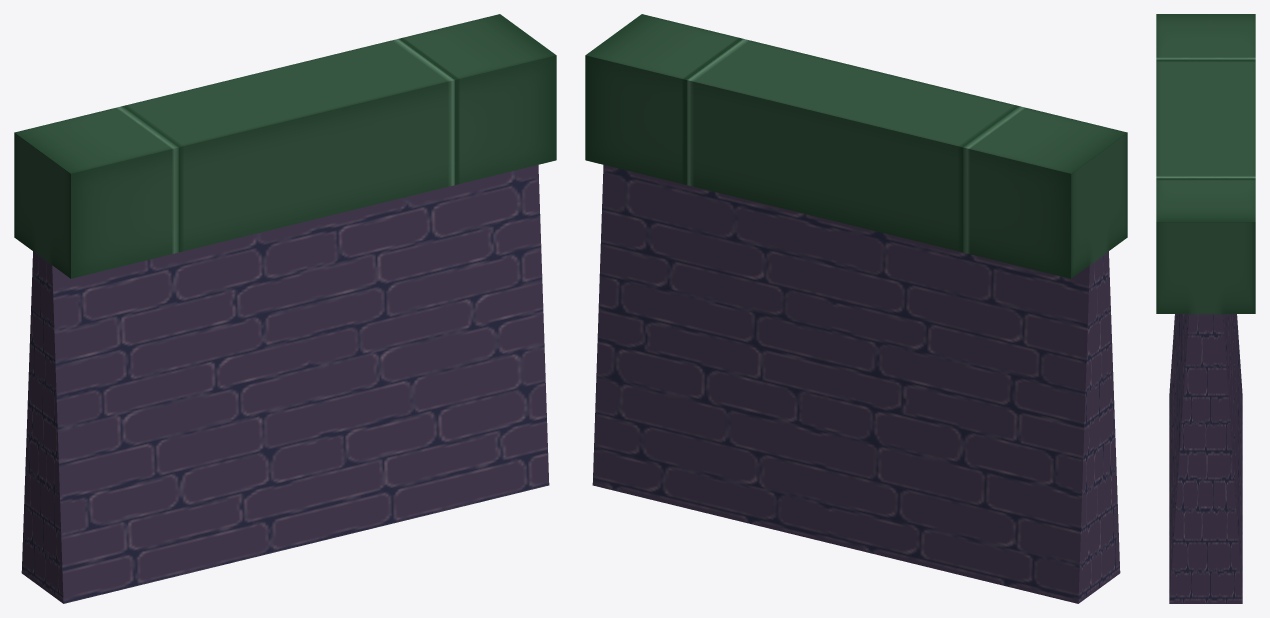
Rendered from wall.fbx.
3 renders of one model, left to right at view 1: azimuth 30°, elevation 25°; view 2: azimuth 150°, elevation 25°; view 3: azimuth 270°, elevation 25°, orthographic. The views are drawn at different scales.
Visible parts, largest first — view 1: Wall; view 2: Wall; view 3: Wall.
Boxes of the visible parts, x1,y1,x2,y2 form: Wall: (14,14,556,603); Wall: (585,14,1127,603); Wall: (1156,14,1255,603).
Size of the model in its own units: 647 by 554 by 130.
Materials: 1 (1 with a texture image).
